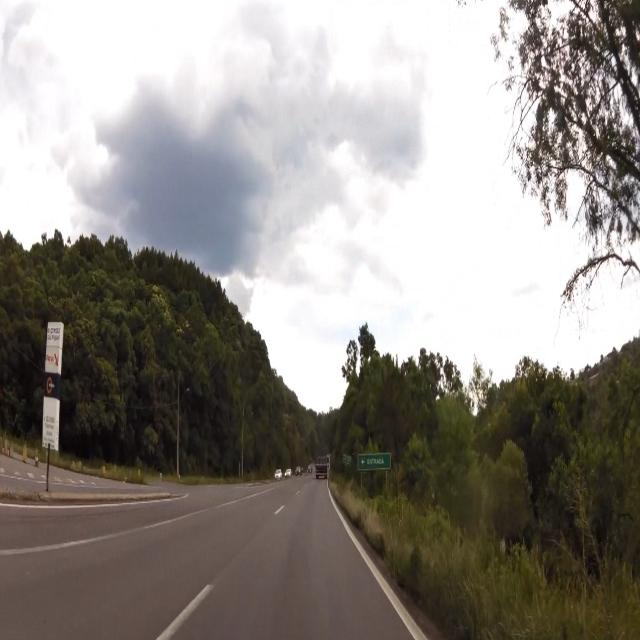I-4: (357, 453, 391, 472)
